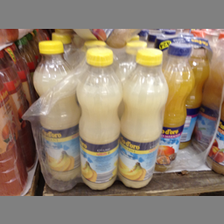juice: (120, 47, 170, 192), (32, 40, 79, 180), (76, 47, 121, 191)
